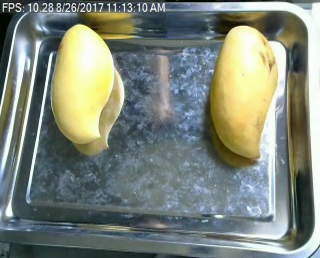Mango: (204, 21, 278, 160), (51, 19, 116, 142)
